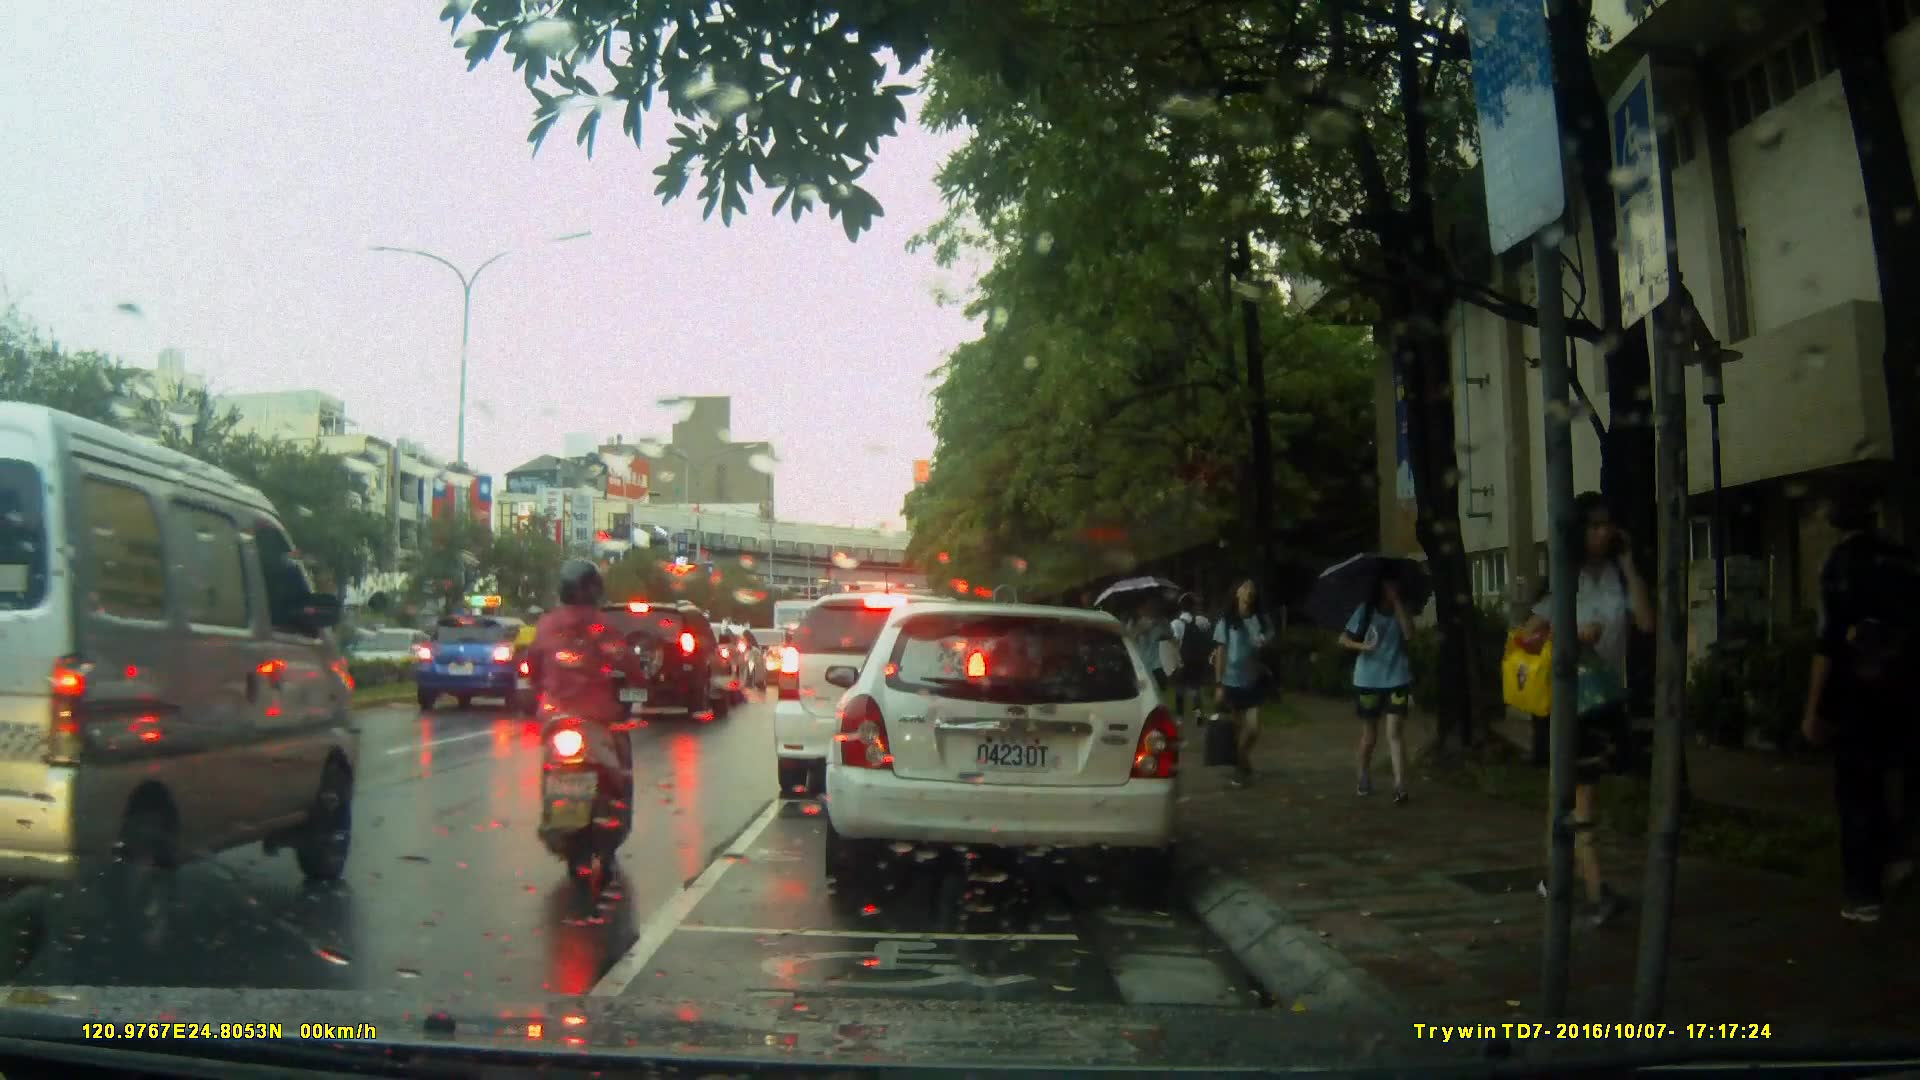pedestrian: (1536, 478, 1664, 917), (1809, 485, 1895, 925), (1332, 552, 1419, 808), (1183, 562, 1267, 775)
rider: (506, 549, 630, 886), (517, 605, 564, 706)
vehicle: (1, 402, 365, 962), (815, 593, 1204, 909), (771, 590, 994, 802), (572, 601, 736, 725), (415, 616, 560, 711)
